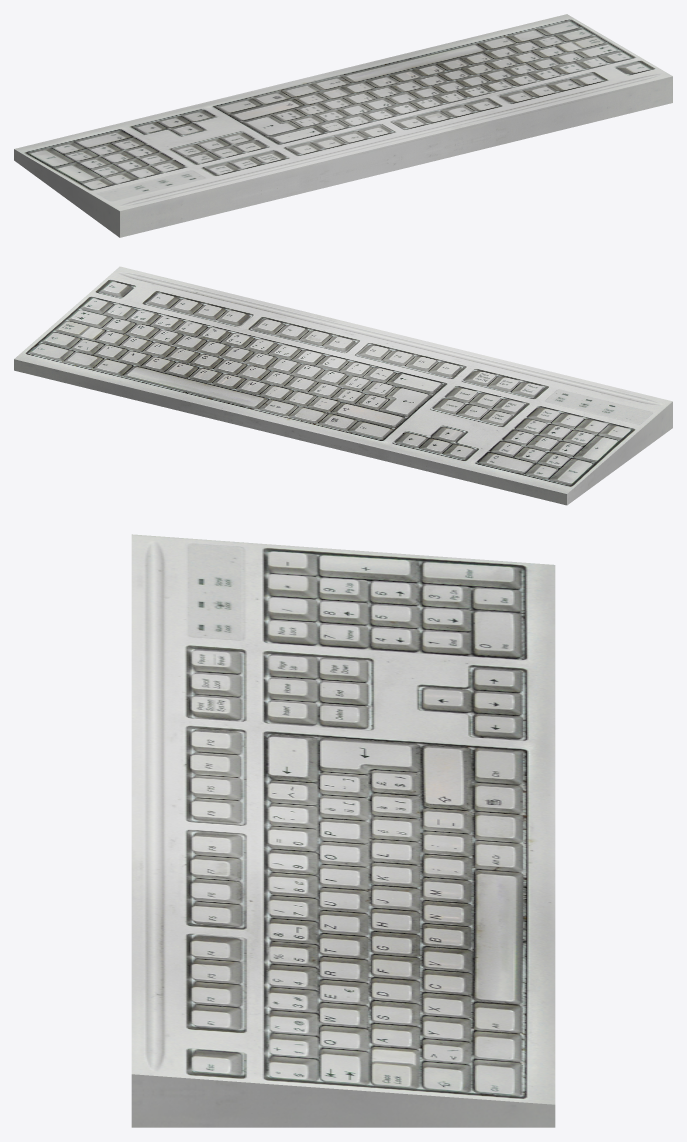
File: Keyboard.fbx
3 views of the same model, one above another, from view 1: azimuth 30°, elevation 25°; view 2: azimuth 150°, elevation 25°; view 3: azimuth 270°, elevation 25° (orthographic). The views are drawn at different scales.
Parts seen in each view (by area): view 1: polySurface1117; view 2: polySurface1117; view 3: polySurface1117.
Boxes of the visible parts, x1=… form: polySurface1117: x1=14, y1=14, x2=672, y2=237; polySurface1117: x1=14, y1=266, x2=672, y2=505; polySurface1117: x1=131, y1=534, x2=555, y2=1127.
Bounding box in the file's own units: 0.4176 × 0.0192 × 0.1385.
1 material, 1 textured.
